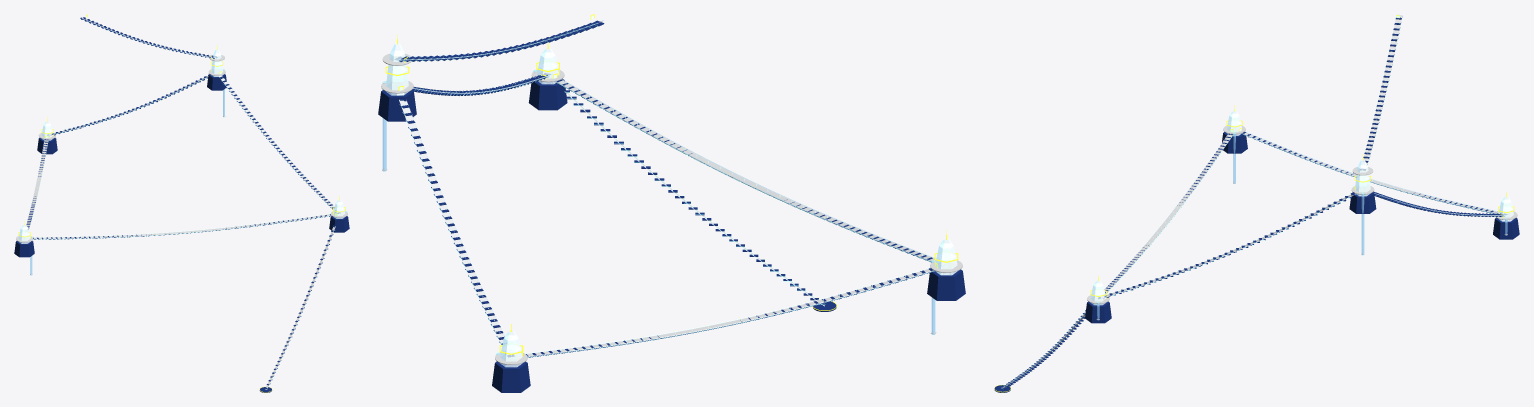
File: shaddai_arctic_peaks_v01.glb
The picture shows the model from 3 angles, left to right: view 1: azimuth 30°, elevation 25°; view 2: azimuth 150°, elevation 25°; view 3: azimuth 270°, elevation 25°; orthographic projection. The views are drawn at different scales.
Visible parts, largest first — view 1: arctic_peaks; view 2: arctic_peaks; view 3: arctic_peaks.
Part boxes in pixels (box(x1,y1,x2,y2)): arctic_peaks: box(14, 14, 349, 392); arctic_peaks: box(378, 14, 965, 392); arctic_peaks: box(994, 14, 1519, 392).
Size of the model in its own units: 814 by 760 by 1015.
